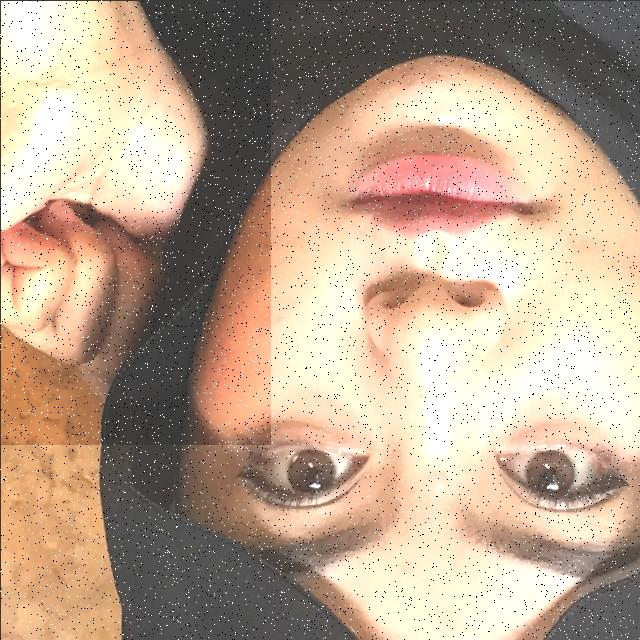ibu: (0, 0, 270, 444)
